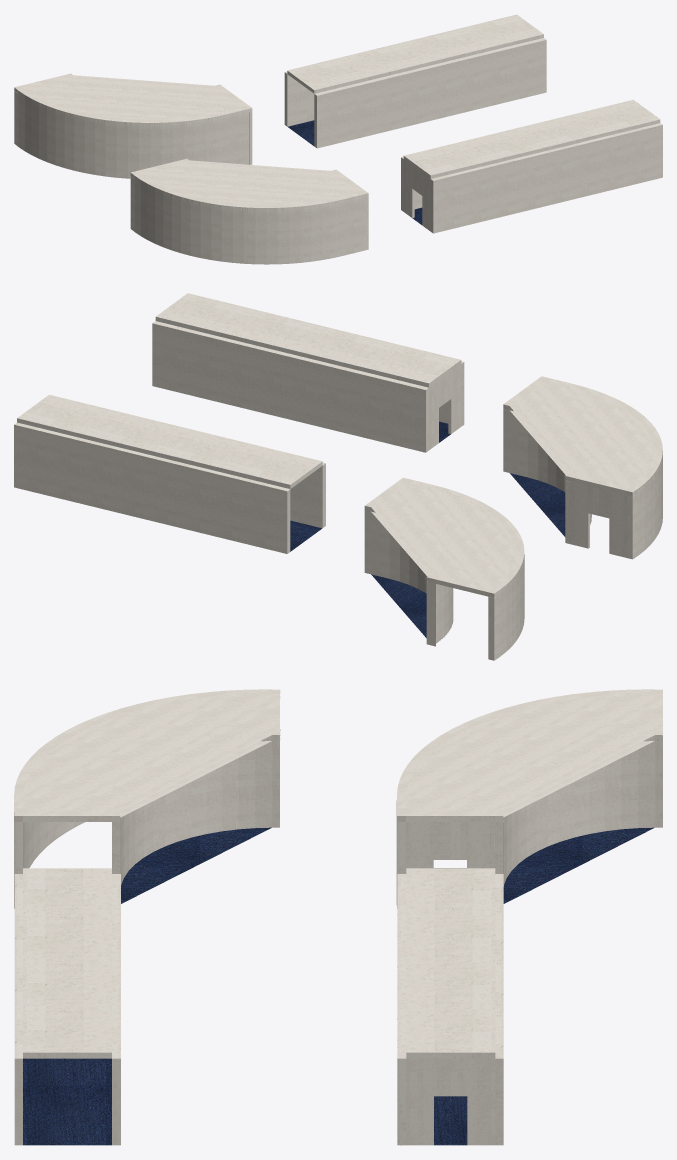
Rendered from new_hallways.fbx.
3 renders of one model, top to bottom at view 1: azimuth 30°, elevation 25°; view 2: azimuth 150°, elevation 25°; view 3: azimuth 270°, elevation 25°, orthographic. The views are drawn at different scales.
Parts seen in each view (by area): view 1: Cube.002, Cube.005, Cube.006, Cube.001; view 2: Cube.005, Cube.002, Cube.006, Cube.001; view 3: Cube.001, Cube.006, Cube.002, Cube.005.
Boxes of the visible parts, bbox=[...] form: Cube.002: bbox=[284, 14, 546, 148]; Cube.005: bbox=[401, 99, 662, 233]; Cube.006: bbox=[130, 158, 368, 264]; Cube.001: bbox=[14, 73, 252, 178]; Cube.005: bbox=[152, 293, 464, 452]; Cube.002: bbox=[14, 394, 325, 553]; Cube.006: bbox=[503, 376, 662, 559]; Cube.001: bbox=[364, 477, 524, 660]; Cube.001: bbox=[396, 689, 662, 908]; Cube.006: bbox=[14, 689, 280, 908]; Cube.002: bbox=[397, 868, 503, 1145]; Cube.005: bbox=[14, 868, 120, 1145].
Size of the model in its own units: 38.51 by 4.6 by 29.09.
2 materials, 2 textured.
